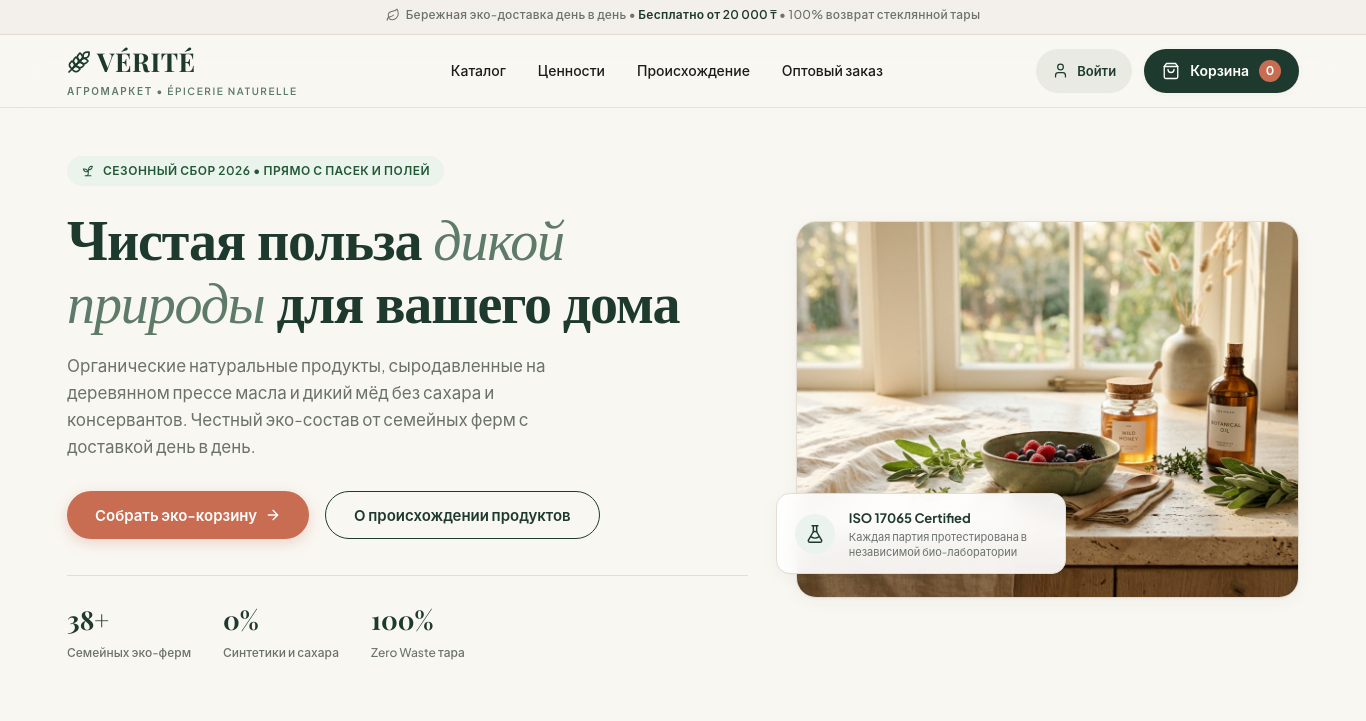
it: Каталог и сессия › успешный вход сохраняет сессию и имя в шапке
Click the button with aria-label "Войти в аккаунт": (1084, 71) [1036, 49, 1132, 93]
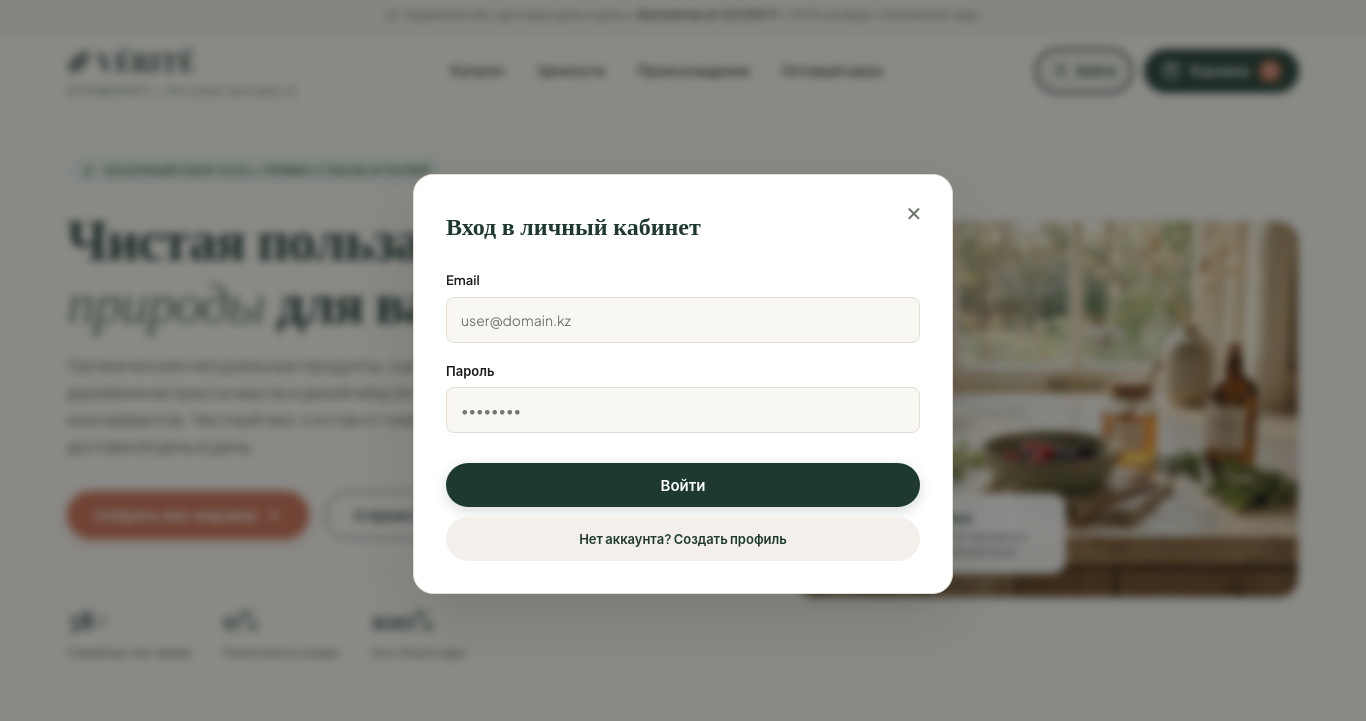
In the field labelled "Email": (683, 320) [446, 297, 920, 343], type "buyer@test.kz"
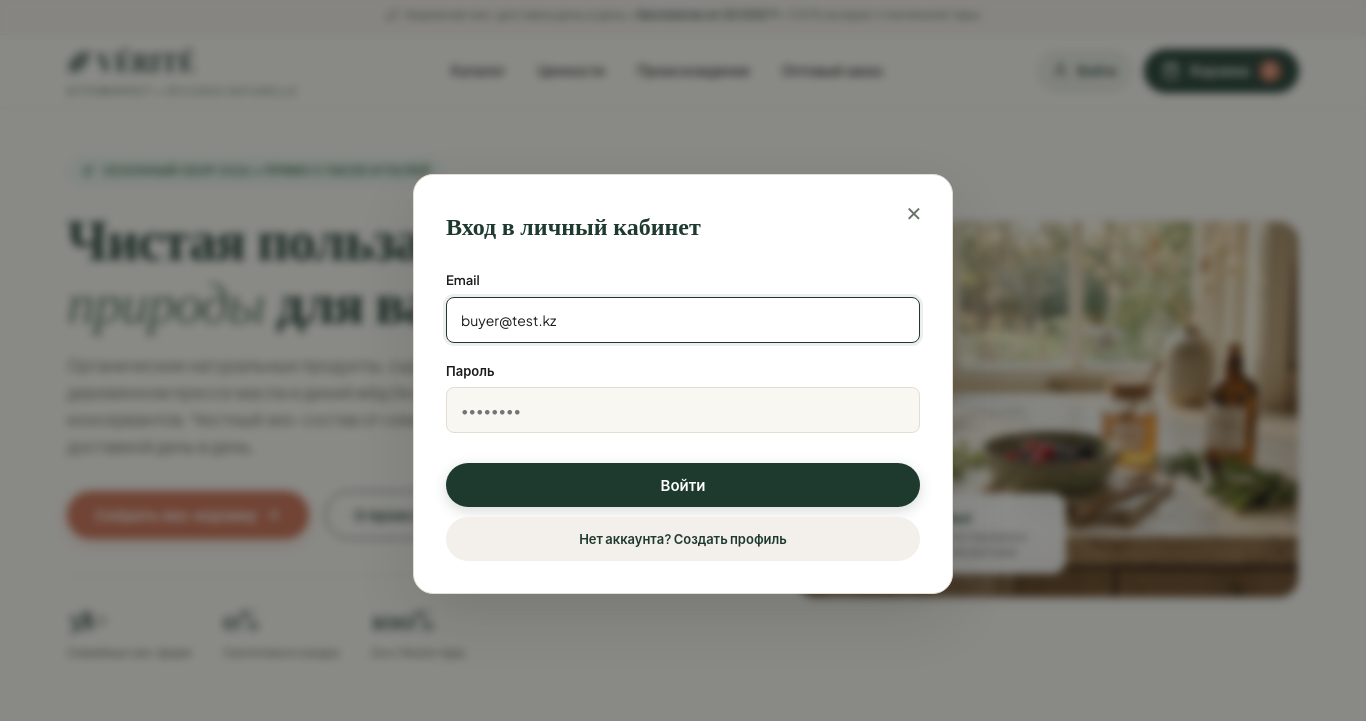
In the password field labelled "Пароль": (683, 410) [446, 387, 920, 433], type "secret123"
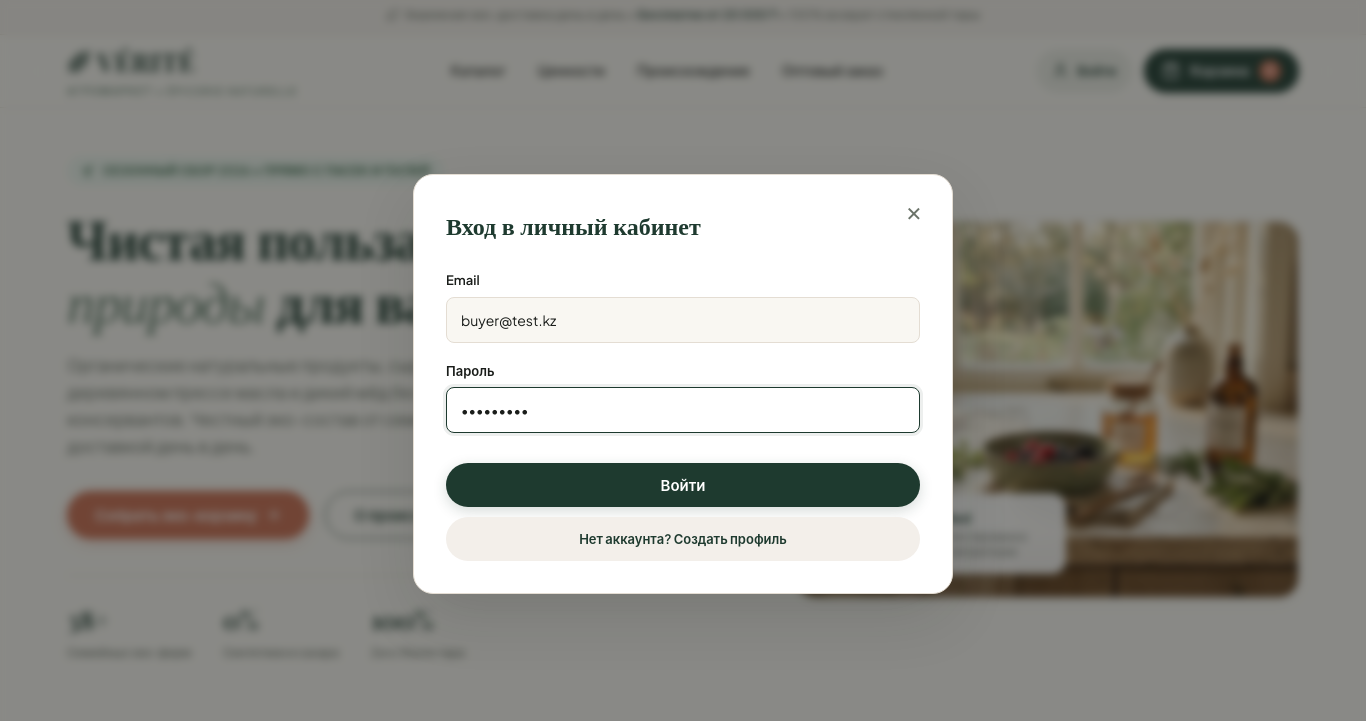
Click the button "Войти": (683, 485) [446, 463, 920, 507]
(page scrolled)
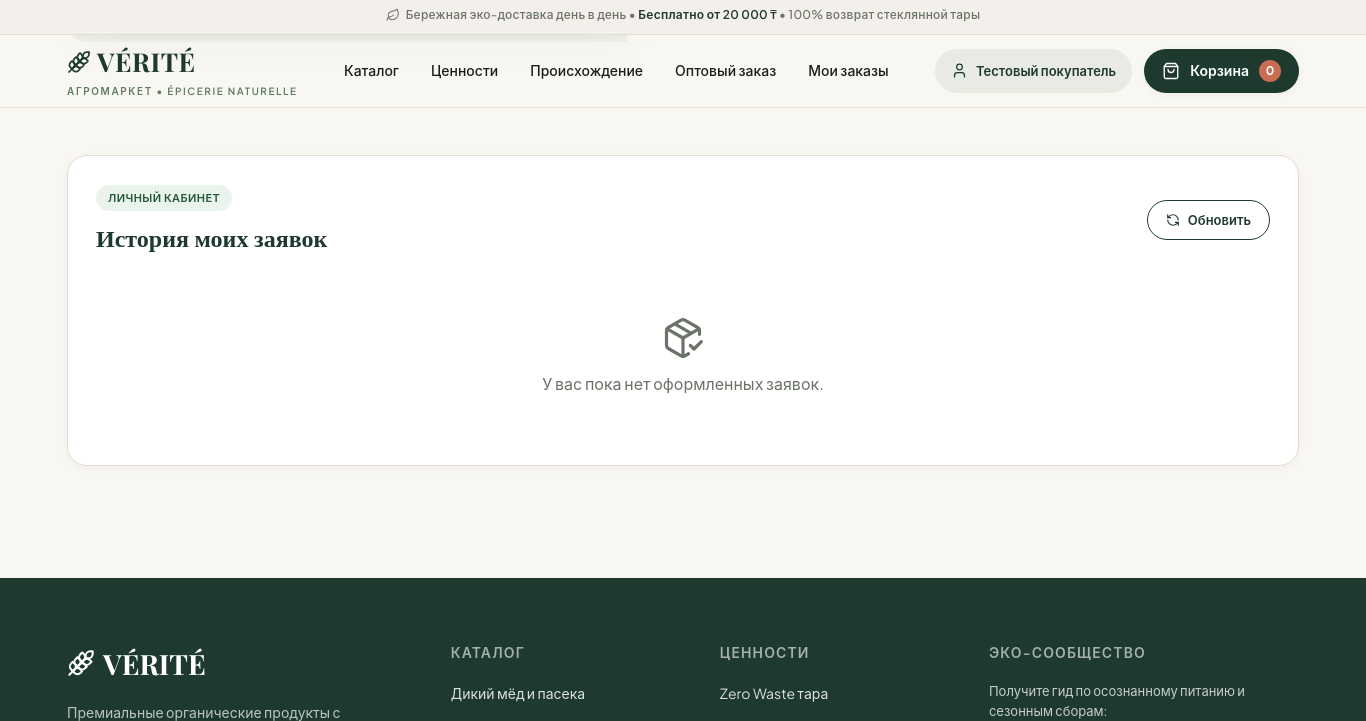
Expected: the text "У вас пока нет оформленных заявок." is shown, [542, 373, 824, 394]
